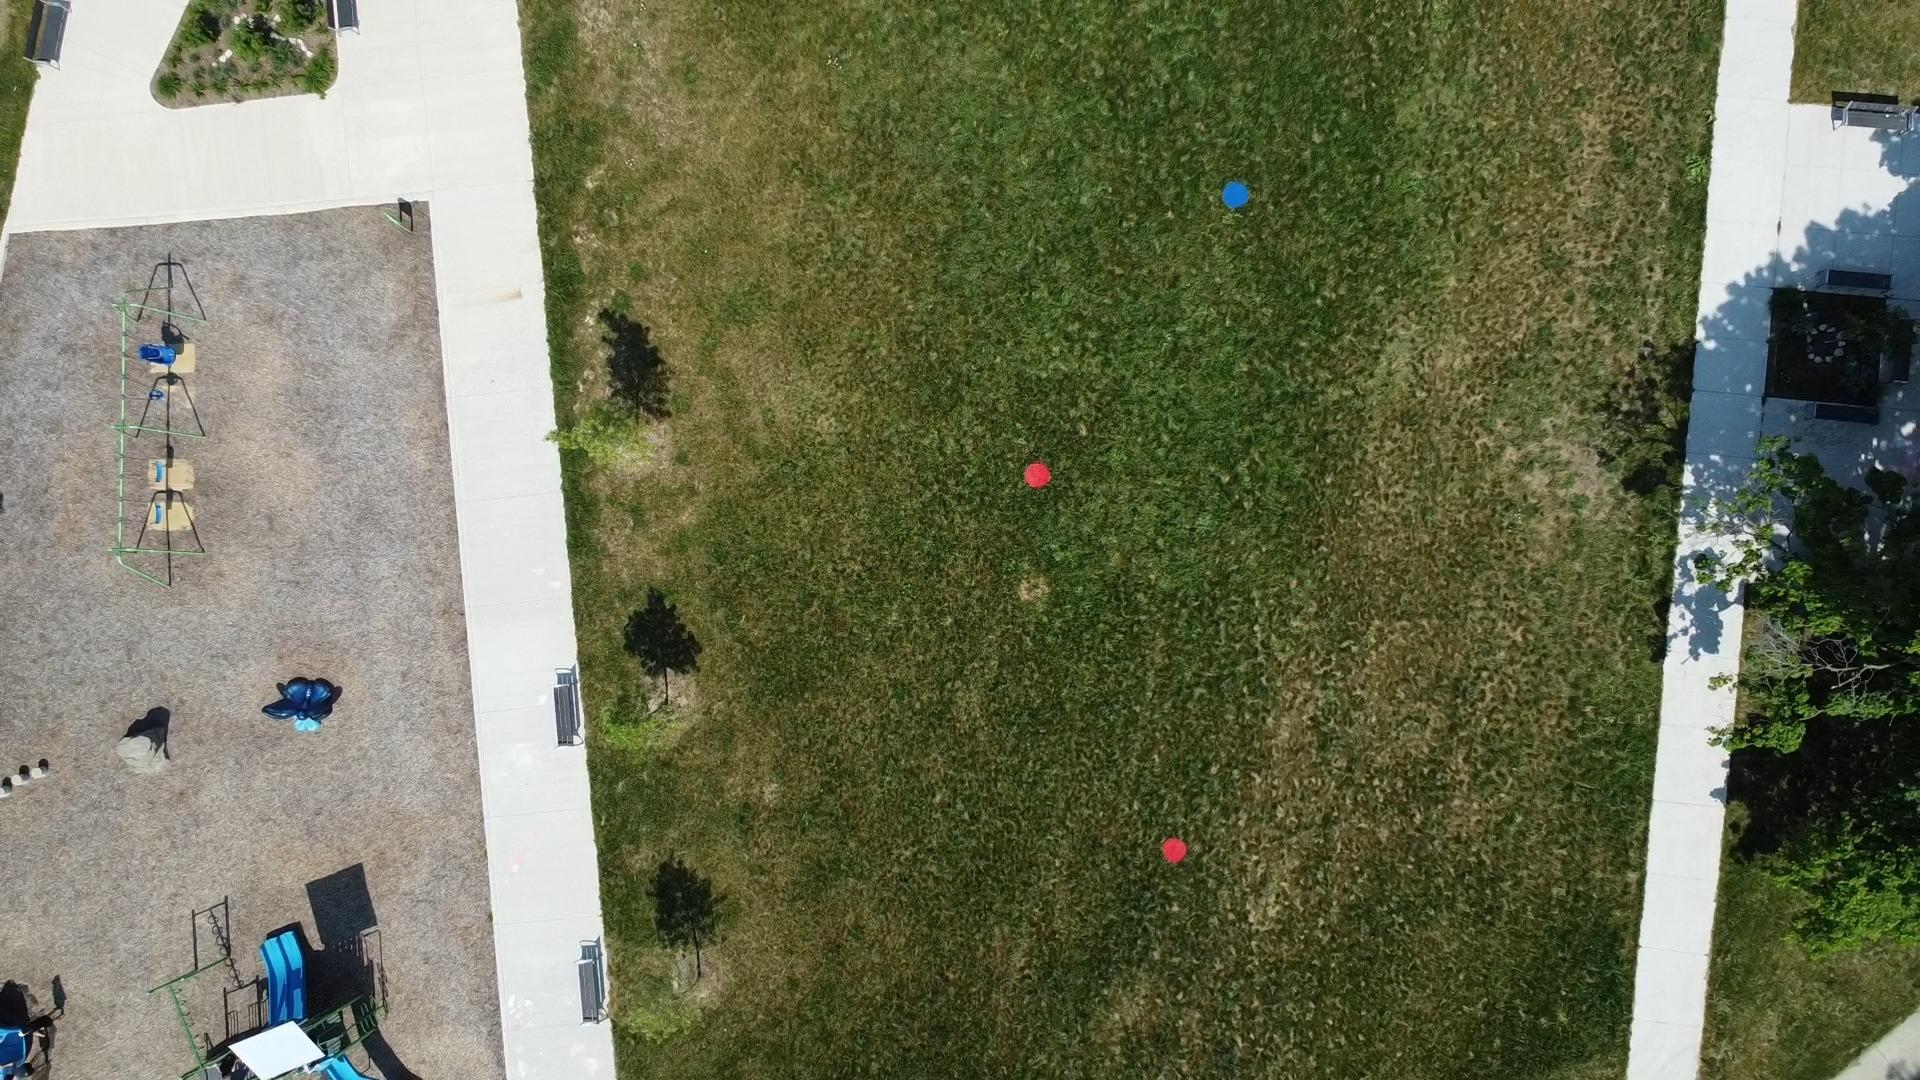Blue: (1222, 181, 1250, 208)
Red: (1023, 462, 1051, 489), (1162, 837, 1188, 864)
